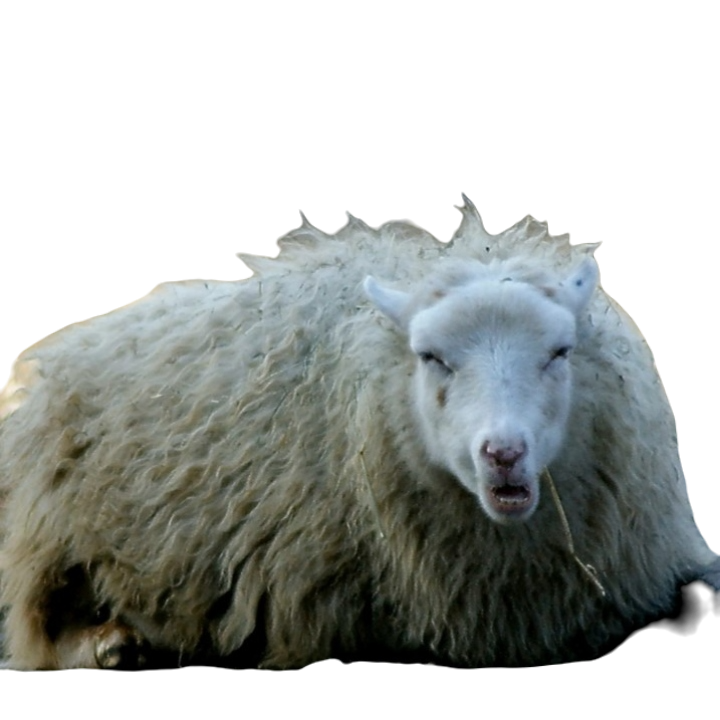Sheep: (0, 187, 720, 681)
